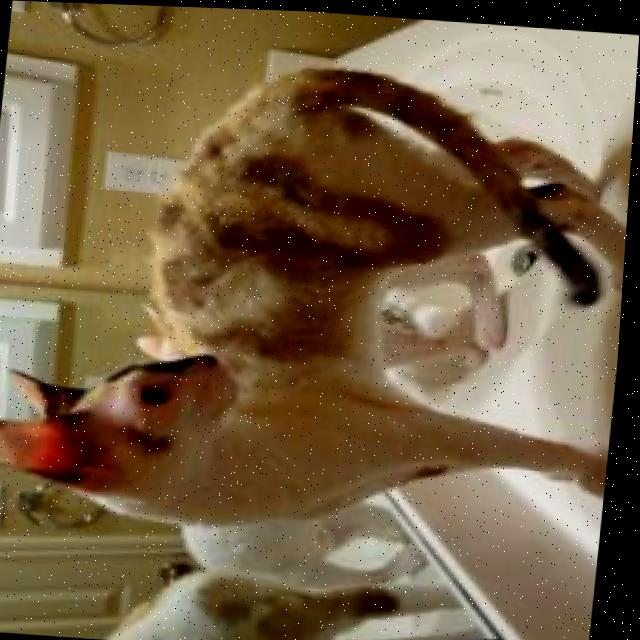Cornish Rex: (0, 39, 638, 556)
